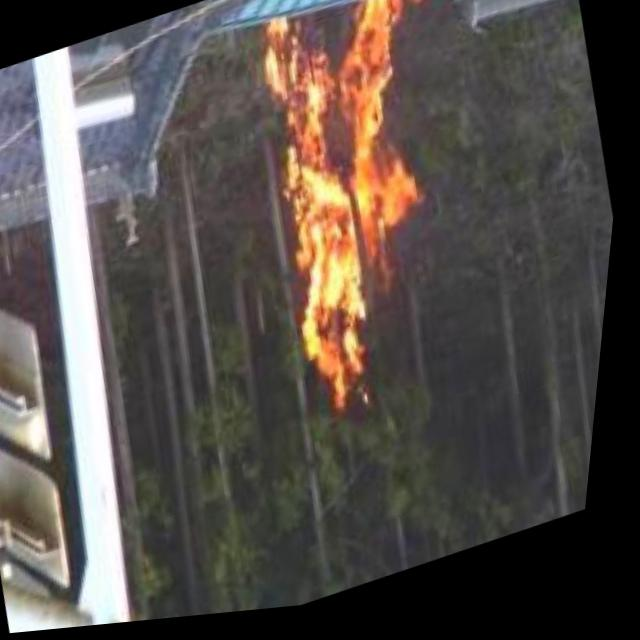Fire: (210, 0, 474, 422)
